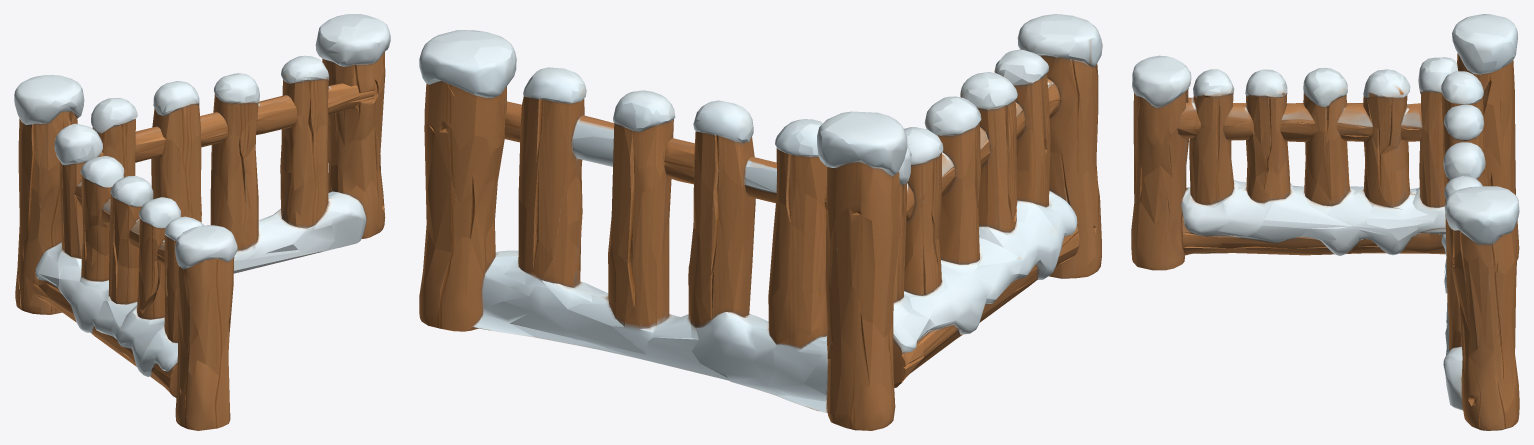
The model's file is wall_section.glb.
The picture shows the model from 3 angles, left to right: view 1: azimuth 30°, elevation 25°; view 2: azimuth 150°, elevation 25°; view 3: azimuth 270°, elevation 25°; orthographic projection. The views are drawn at different scales.
Size of the model in its own units: 1.9 by 1.11 by 1.65.
Materials: 1 (1 with a texture image).
